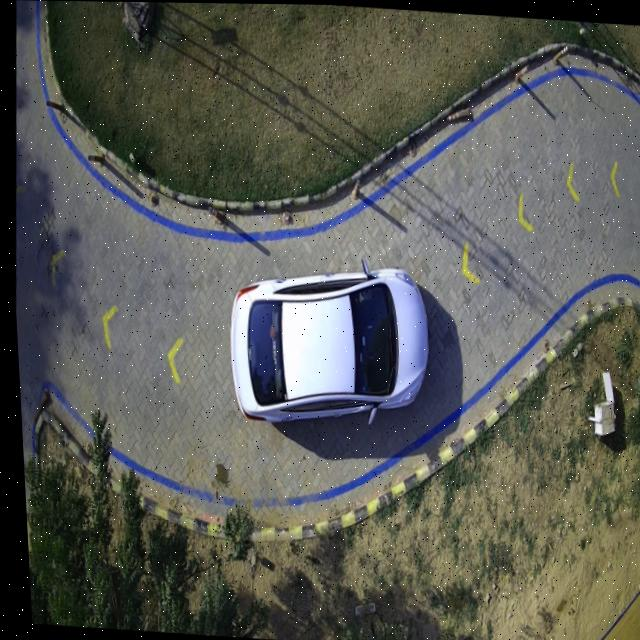car: (227, 259, 424, 422)
